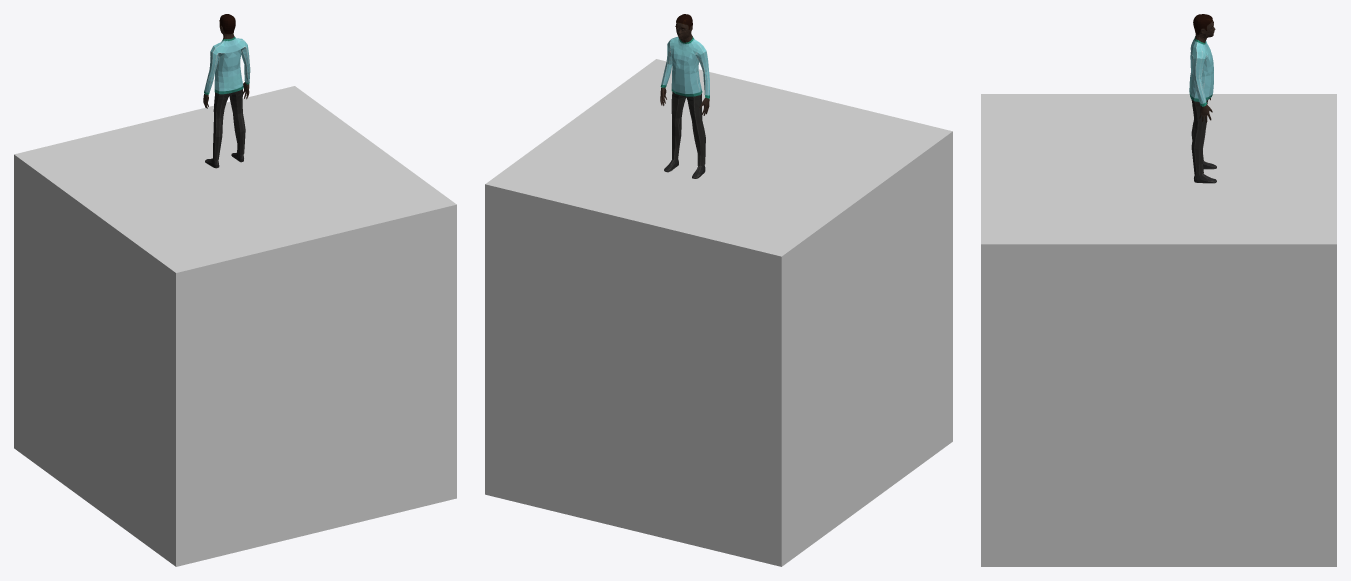
3 renders of one model, left to right at view 1: azimuth 30°, elevation 25°; view 2: azimuth 150°, elevation 25°; view 3: azimuth 270°, elevation 25°, orthographic. The views are drawn at different scales.
Parts seen in each view (by area): view 1: Cube, Human 2; view 2: Cube, Human 2; view 3: Cube, Human 2.
Part boxes in pixels (x1,y1,x2,y2): Cube: (14, 86, 456, 566); Human 2: (203, 14, 250, 168); Cube: (485, 59, 952, 566); Human 2: (660, 14, 709, 178); Cube: (981, 94, 1336, 566); Human 2: (1189, 14, 1216, 183).
Size of the model in its own units: 3.35 by 3.35 by 5.02.
